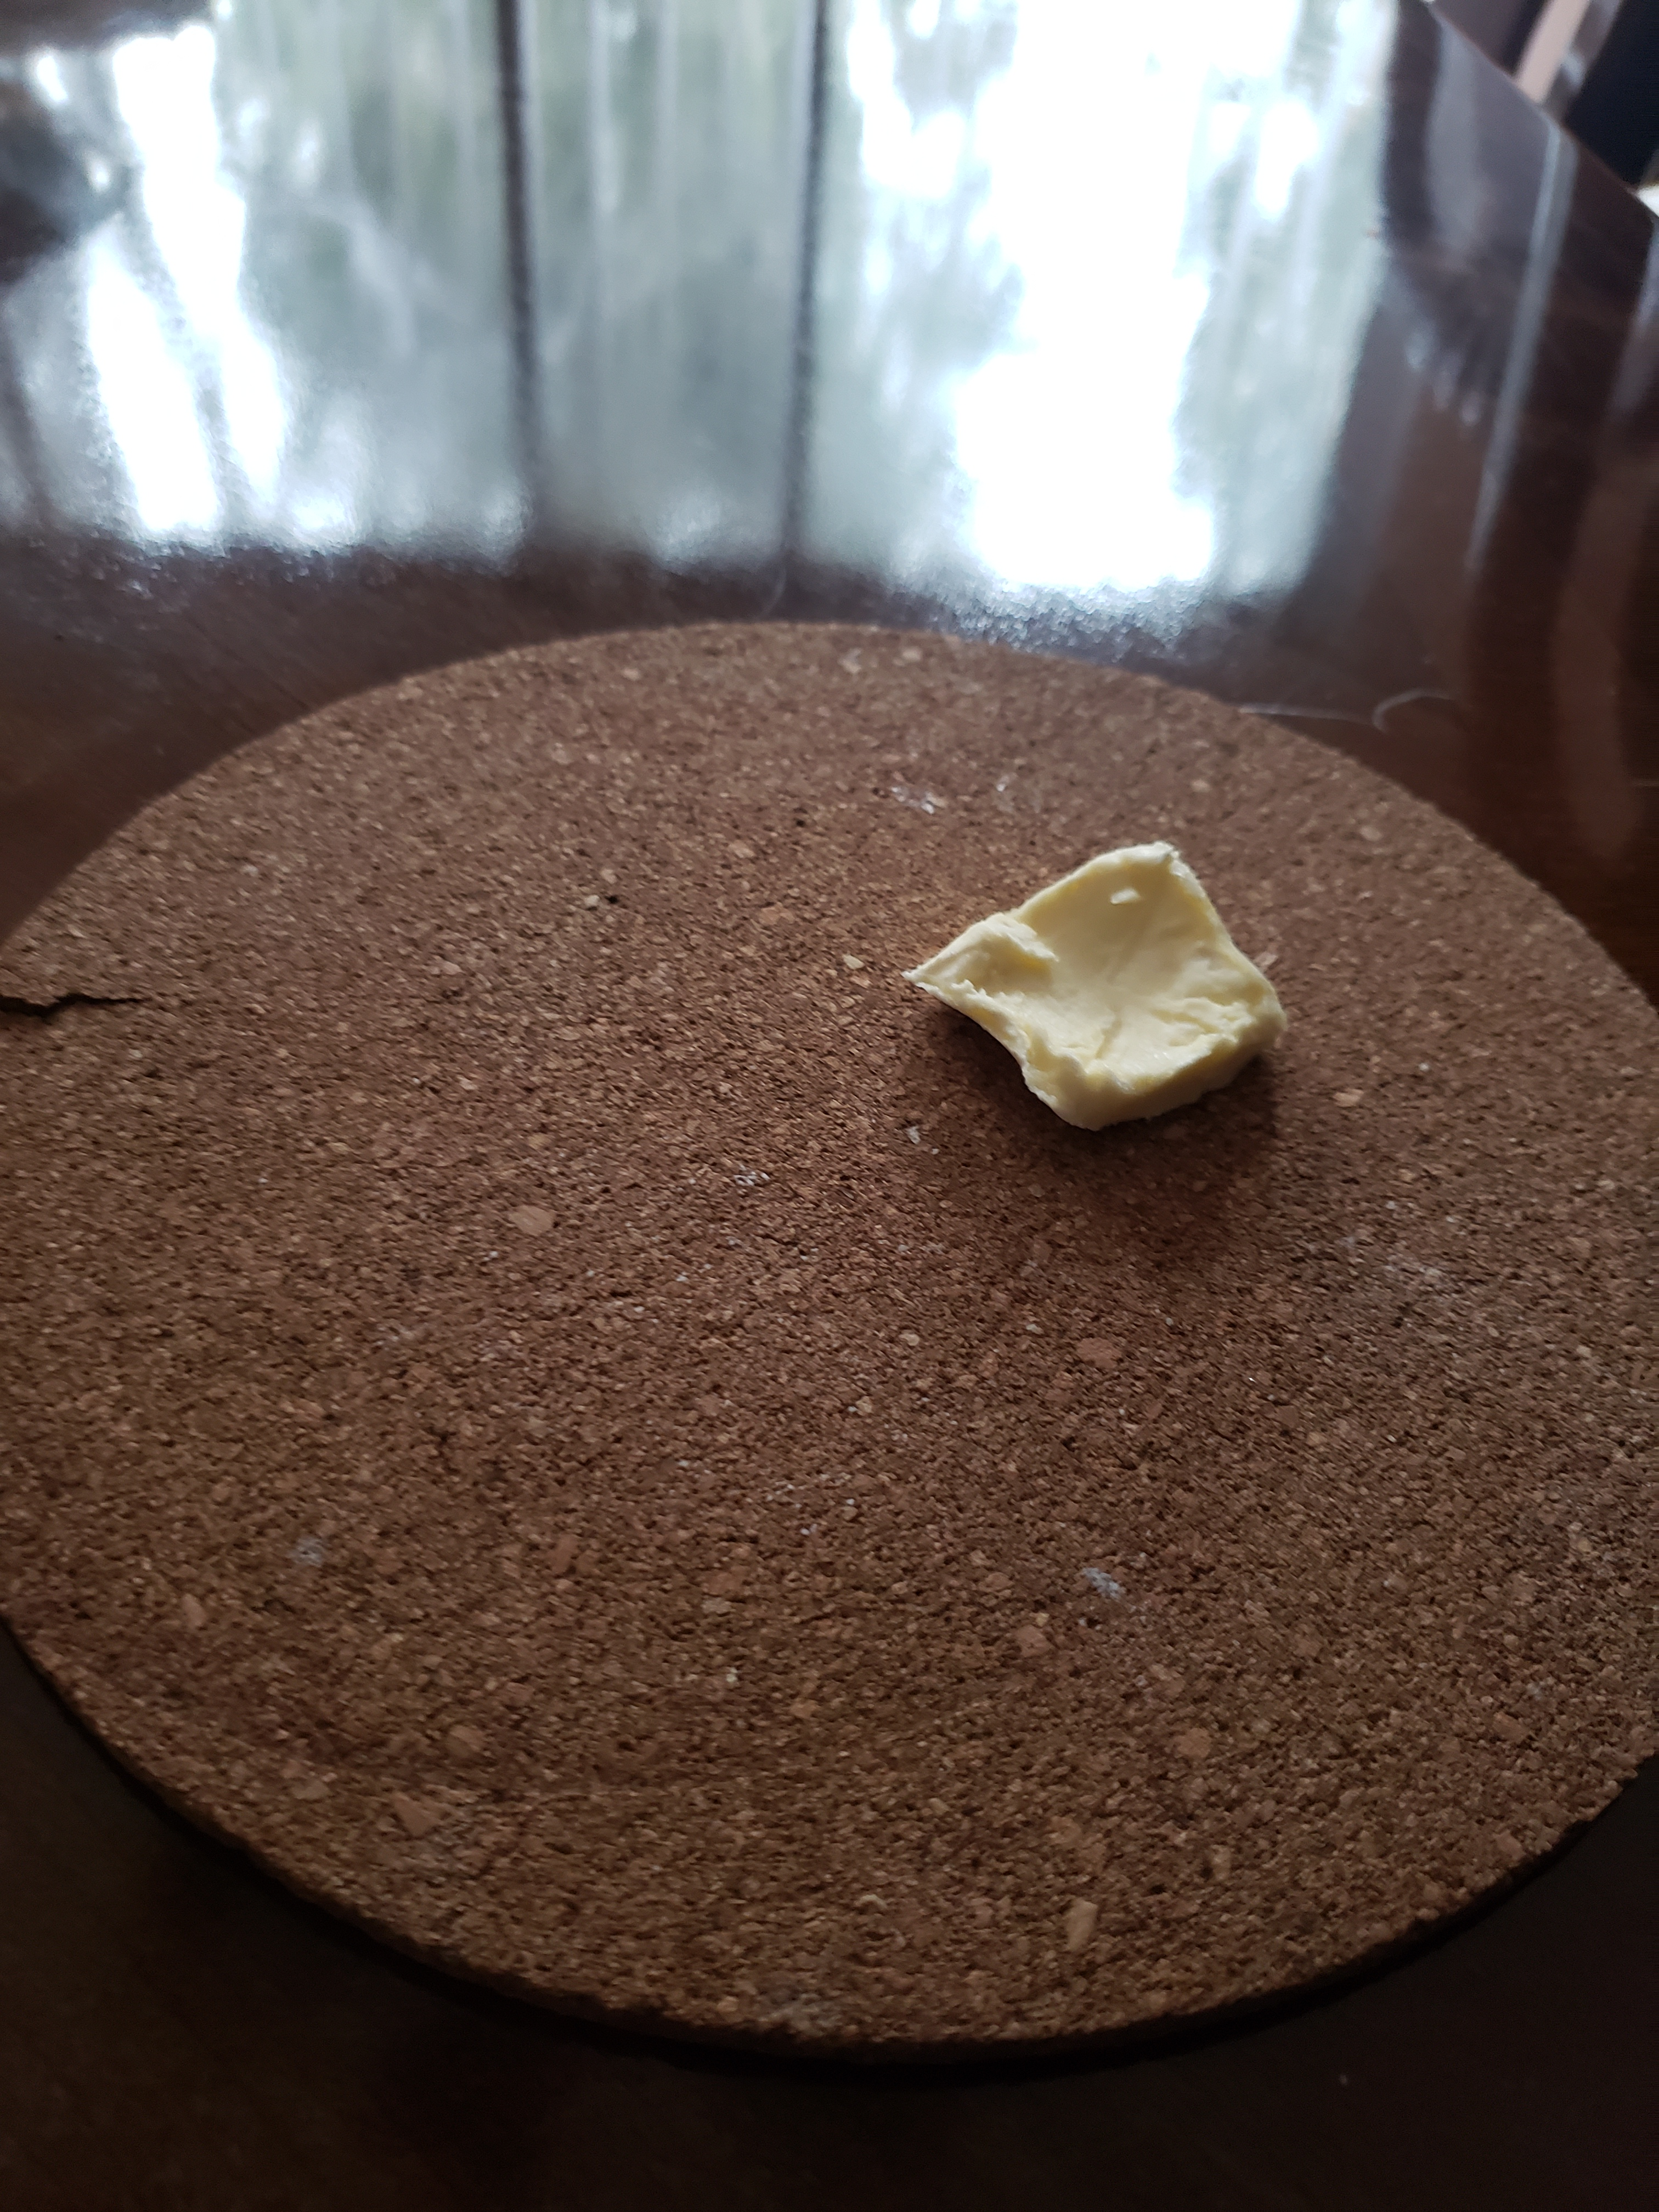Butter: (913, 841, 1286, 1120)
